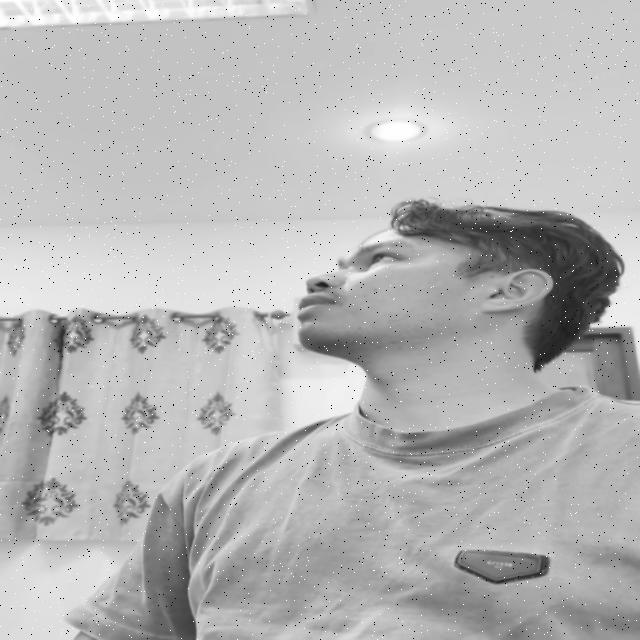ear: (480, 269, 553, 313)
